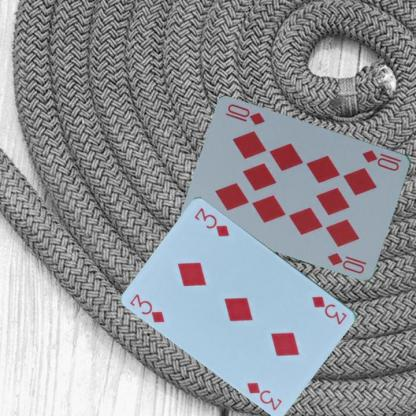10d: (360, 147, 403, 173)
3d: (309, 293, 349, 326), (128, 291, 166, 325)
